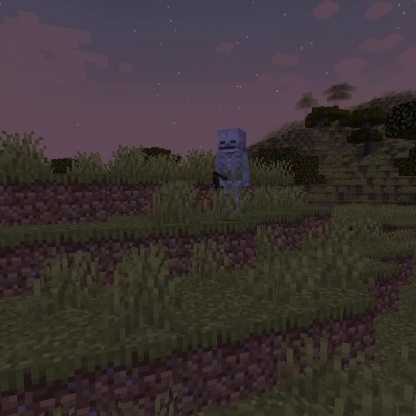skeleton: (210, 125, 254, 214)
